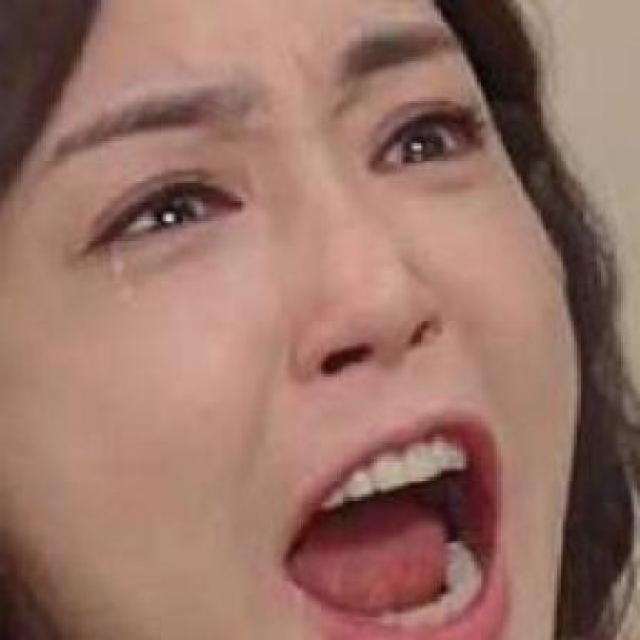angry: (37, 54, 640, 640)
